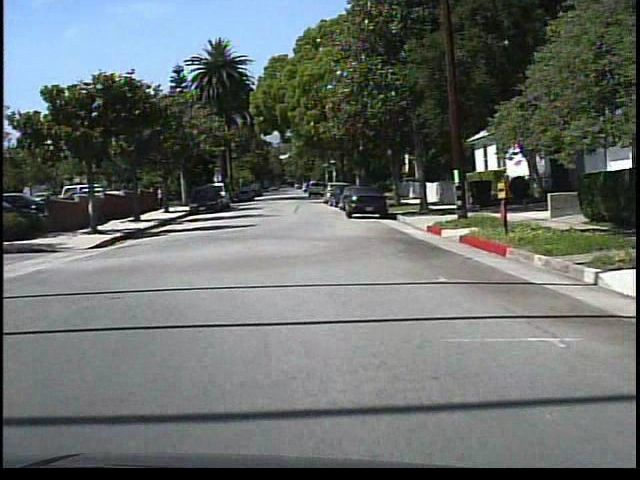person: (153, 183, 167, 210)
